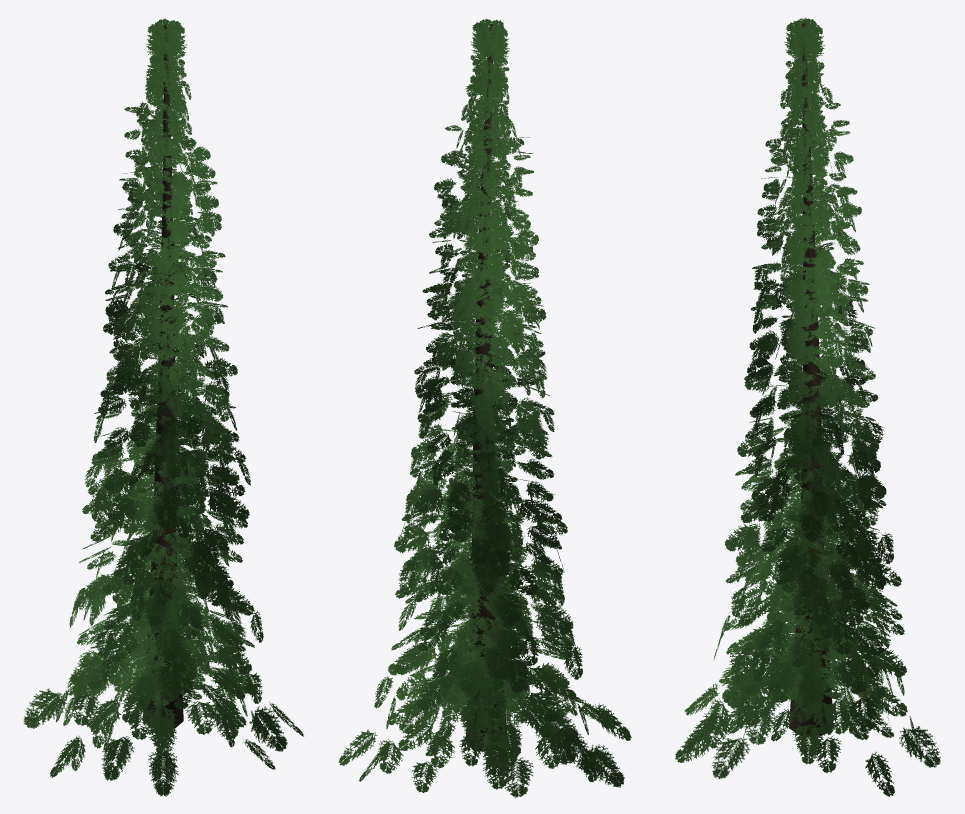
File: spruce_conifer_v01_LOD2.fbx
3 views of the same model, side by side, from view 1: azimuth 30°, elevation 25°; view 2: azimuth 150°, elevation 25°; view 3: azimuth 270°, elevation 25° (orthographic). The views are drawn at different scales.
Visible parts, largest first — view 1: spruce_conifer_v01_LOD2; view 2: spruce_conifer_v01_LOD2; view 3: spruce_conifer_v01_LOD2.
Part boxes in pixels (x1=…): spruce_conifer_v01_LOD2: x1=23, y1=18, x2=303, y2=796; spruce_conifer_v01_LOD2: x1=338, y1=19, x2=631, y2=797; spruce_conifer_v01_LOD2: x1=675, y1=18, x2=940, y2=796.
Bounding box in the file's own units: 806 × 803 × 2311.
Materials: 2 (2 with a texture image).
